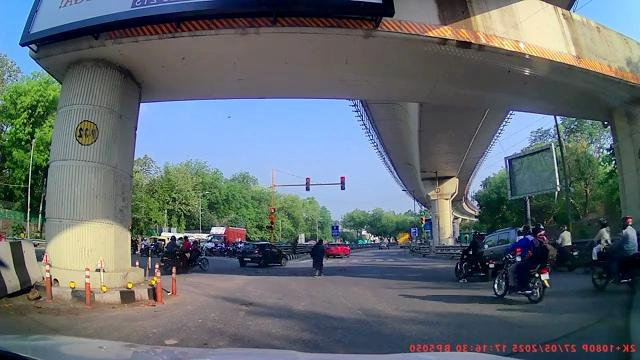motorcycle_with_helmet: (589, 215, 639, 292), (453, 229, 491, 282)
passenger_with_helmet: (492, 222, 551, 304)
